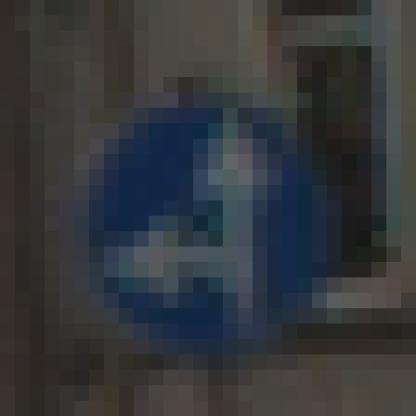Straight or Left: (90, 93, 328, 340)
